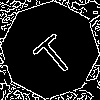T: (25, 25, 78, 80)
